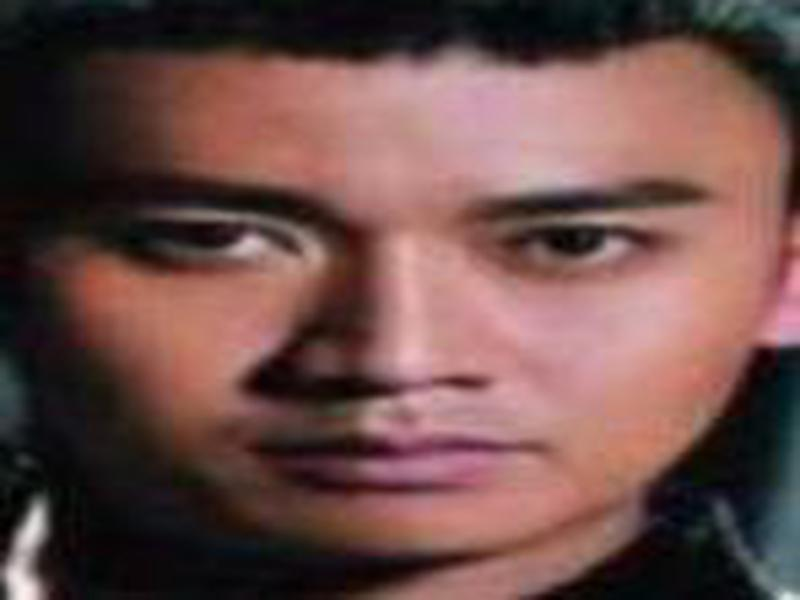without_mask: (33, 48, 766, 560)
